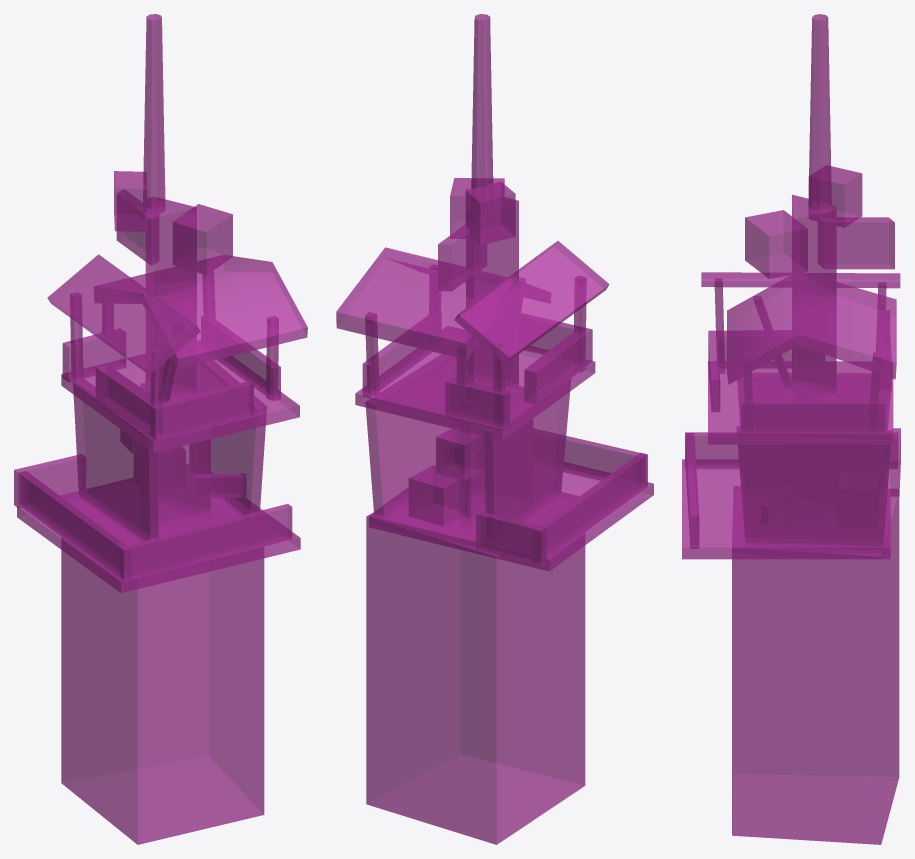
The model's file is SM_Bld_Tower_06_Collision.fbx.
The picture shows the model from 3 angles, left to right: view 1: azimuth 30°, elevation 25°; view 2: azimuth 150°, elevation 25°; view 3: azimuth 270°, elevation 25°; orthographic projection.
Visible parts, largest first — view 1: SM_Bld_Tower_06_Collision; view 2: SM_Bld_Tower_06_Collision; view 3: SM_Bld_Tower_06_Collision.
Boxes of the visible parts, <box> form: SM_Bld_Tower_06_Collision: <box>14,14,307,844</box>; SM_Bld_Tower_06_Collision: <box>336,14,653,844</box>; SM_Bld_Tower_06_Collision: <box>682,14,900,844</box>.
Bounding box in the file's own units: 605 × 2158 × 544.
